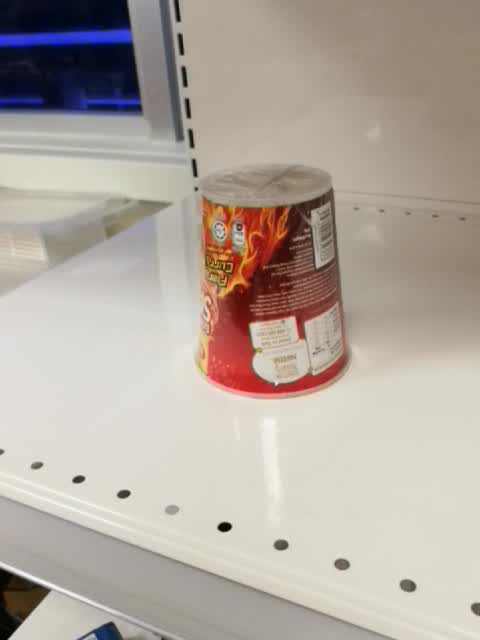maggi: (194, 160, 353, 403)
